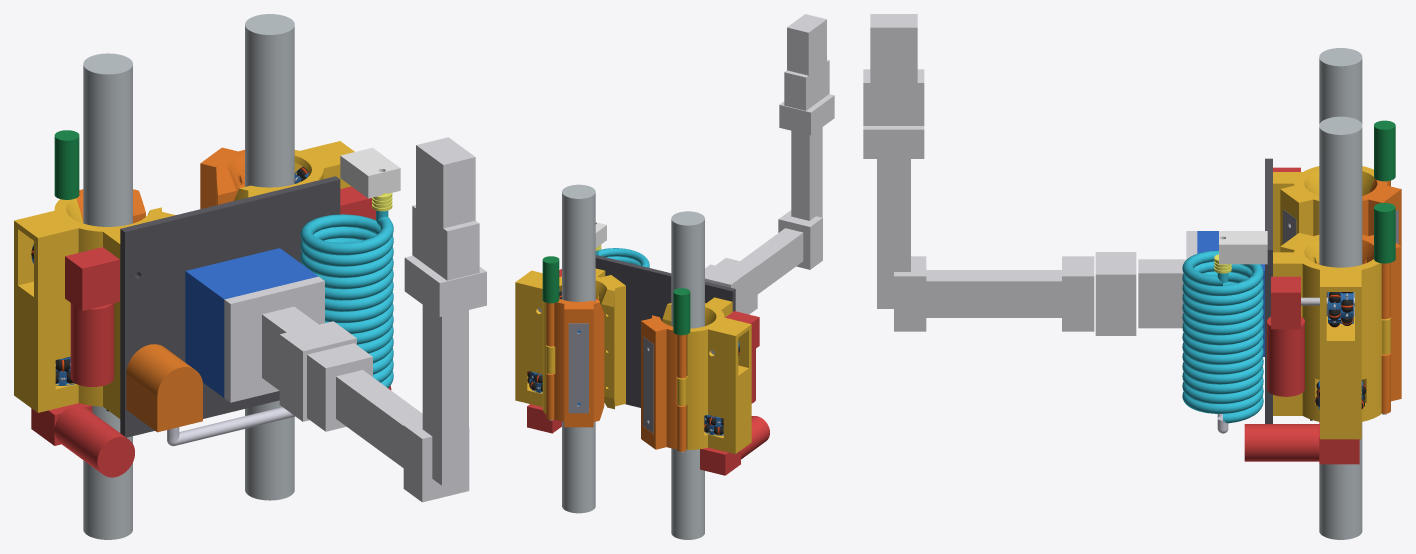
The model's file is sample-coil.glb.
3 renders of one model, left to right at view 1: azimuth 30°, elevation 25°; view 2: azimuth 150°, elevation 25°; view 3: azimuth 270°, elevation 25°, orthographic. The views are drawn at different scales.
Visible parts, largest first — view 1: cart_so101_arm_envelope, cart_base_plate, cart_hand_on_pipe_B_sleeve, cart_track_pipe_C, cart_track_pipe_B, sampler_pu_coil, cart_battery, sampler_pump, cart_hand_on_pipe_B_roll_motor, cart_hand_on_pipe_B_drive_motor, cart_hand_on_pipe_B_drive_gearbox, sampler_parking_socket (+6 smaller); view 2: cart_so101_arm_envelope, cart_hand_on_pipe_B_sleeve, cart_hand_on_pipe_C_sleeve, cart_track_pipe_C, cart_track_pipe_B, cart_hand_on_pipe_C_jaw, cart_base_plate, cart_hand_on_pipe_B_jaw, cart_hand_on_pipe_C_p60_cap, cart_hand_on_pipe_B_p60_cap, cart_hand_on_pipe_B_roll_gearbox, cart_hand_on_pipe_C_roll_gearbox (+5 smaller); view 3: cart_so101_arm_envelope, cart_hand_on_pipe_C_sleeve, sampler_pu_coil, cart_track_pipe_C, cart_hand_on_pipe_B_sleeve, cart_hand_on_pipe_C_jaw, cart_track_pipe_B, cart_hand_on_pipe_C_roll_motor, cart_hand_on_pipe_C_drive_motor, sampler_parking_socket, cart_hand_on_pipe_C_drive_gearbox, cart_base_plate (+5 smaller).
Part boxes in pixels (left/top/right/bottom): cart_so101_arm_envelope: left=224, top=137, right=486, bottom=502; cart_base_plate: left=120, top=176, right=340, bottom=437; cart_hand_on_pipe_B_sleeve: left=14, top=198, right=175, bottom=418; cart_track_pipe_C: left=245, top=14, right=294, bottom=500; cart_track_pipe_B: left=83, top=53, right=132, bottom=539; sampler_pu_coil: left=300, top=214, right=393, bottom=387; cart_battery: left=185, top=248, right=318, bottom=397; sampler_pump: left=126, top=344, right=202, bottom=432; cart_hand_on_pipe_B_roll_motor: left=54, top=405, right=134, bottom=477; cart_hand_on_pipe_B_drive_motor: left=70, top=303, right=114, bottom=386; cart_hand_on_pipe_B_drive_gearbox: left=65, top=247, right=119, bottom=310; sampler_parking_socket: left=340, top=147, right=400, bottom=198; cart_so101_arm_envelope: left=705, top=14, right=834, bottom=314; cart_hand_on_pipe_B_sleeve: left=662, top=297, right=751, bottom=453; cart_hand_on_pipe_C_sleeve: left=515, top=268, right=625, bottom=414; cart_track_pipe_C: left=562, top=184, right=595, bottom=513; cart_track_pipe_B: left=671, top=211, right=704, bottom=539; cart_hand_on_pipe_C_jaw: left=546, top=298, right=604, bottom=427; cart_base_plate: left=595, top=255, right=735, bottom=407; cart_hand_on_pipe_B_jaw: left=641, top=315, right=686, bottom=451; cart_hand_on_pipe_C_p60_cap: left=568, top=323, right=588, bottom=413; cart_hand_on_pipe_B_p60_cap: left=643, top=337, right=653, bottom=433; cart_hand_on_pipe_B_roll_gearbox: left=700, top=447, right=740, bottom=475; cart_hand_on_pipe_C_roll_gearbox: left=527, top=404, right=561, bottom=433; cart_so101_arm_envelope: left=863, top=14, right=1197, bottom=335; cart_hand_on_pipe_C_sleeve: left=1273, top=233, right=1390, bottom=439; sampler_pu_coil: left=1182, top=250, right=1263, bottom=423; cart_track_pipe_C: left=1319, top=116, right=1362, bottom=539; cart_hand_on_pipe_B_sleeve: left=1273, top=166, right=1374, bottom=252; cart_hand_on_pipe_C_jaw: left=1362, top=234, right=1401, bottom=413; cart_track_pipe_B: left=1319, top=48, right=1362, bottom=123; cart_hand_on_pipe_C_roll_motor: left=1244, top=424, right=1319, bottom=461; cart_hand_on_pipe_C_drive_motor: left=1267, top=316, right=1304, bottom=396; sampler_parking_socket: left=1219, top=231, right=1267, bottom=264; cart_hand_on_pipe_C_drive_gearbox: left=1271, top=276, right=1300, bottom=329; cart_base_plate: left=1265, top=158, right=1272, bottom=423.
Size of the model in its own units: 242 by 388 by 397.
